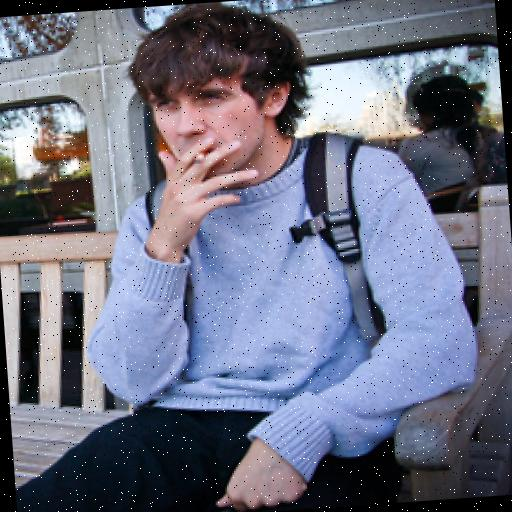terdeteksi merokok: (155, 80, 242, 189)
